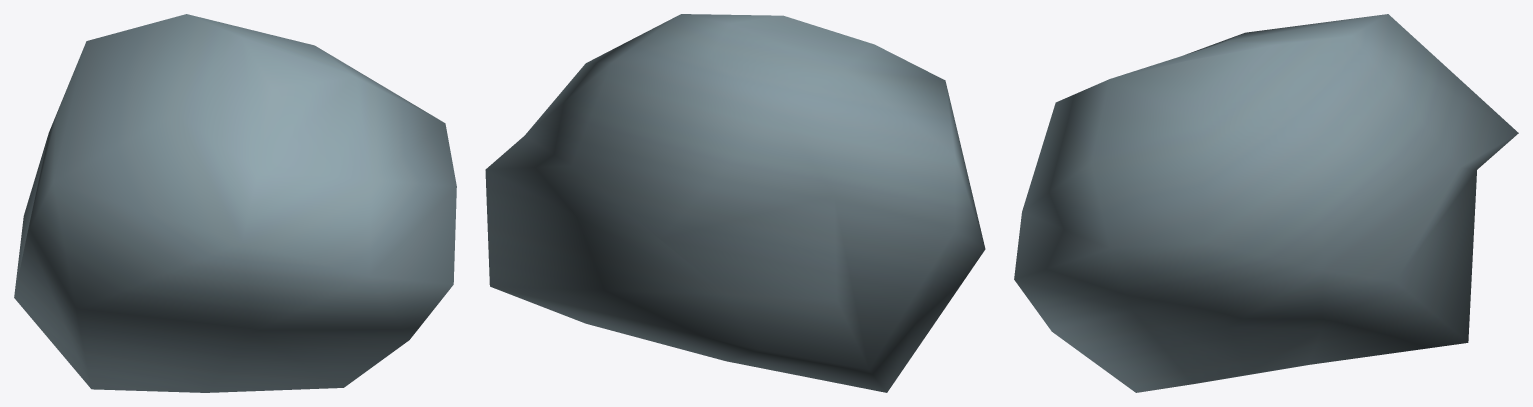
The model's file is Rock-3.fbx.
3 views of the same model, side by side, from view 1: azimuth 30°, elevation 25°; view 2: azimuth 150°, elevation 25°; view 3: azimuth 270°, elevation 25° (orthographic). The views are drawn at different scales.
Visible parts, largest first — view 1: Rock-3; view 2: Rock-3; view 3: Rock-3.
Part boxes in pixels (left/top/right/bottom): Rock-3: left=14, top=14, right=456, bottom=392; Rock-3: left=485, top=14, right=985, bottom=392; Rock-3: left=1014, top=14, right=1518, bottom=392.
Size of the model in its own units: 169 by 131 by 180.
